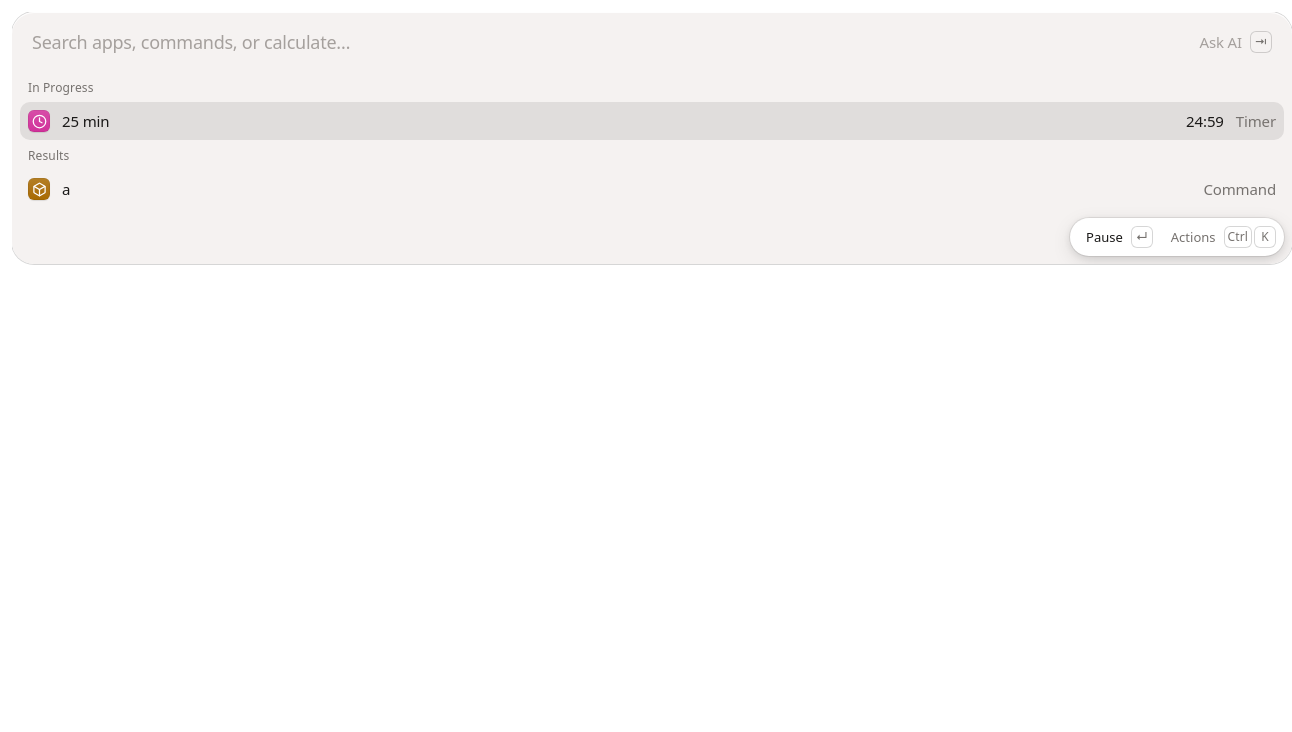
Test: the action panel is the selected row's, and runs what is chosen in it
Press k in the field with placeholder "Search apps, commands, or calculate…", box [12, 12, 1184, 72]
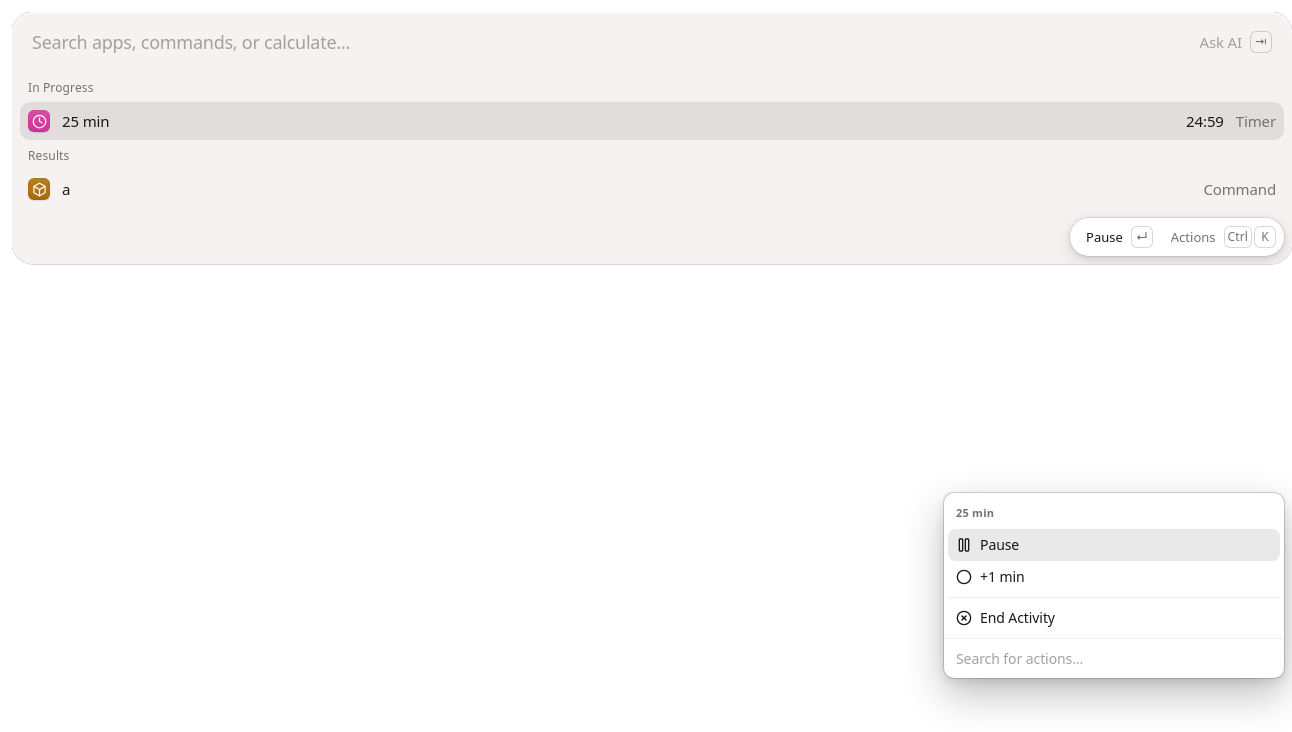
Expected: the text with class "action-panel-title" reads "25 min", [956, 505, 994, 520]
Click the element with class "action-row" showing "End Activity". click: point(1005, 618)
box: [956, 608, 1055, 627]
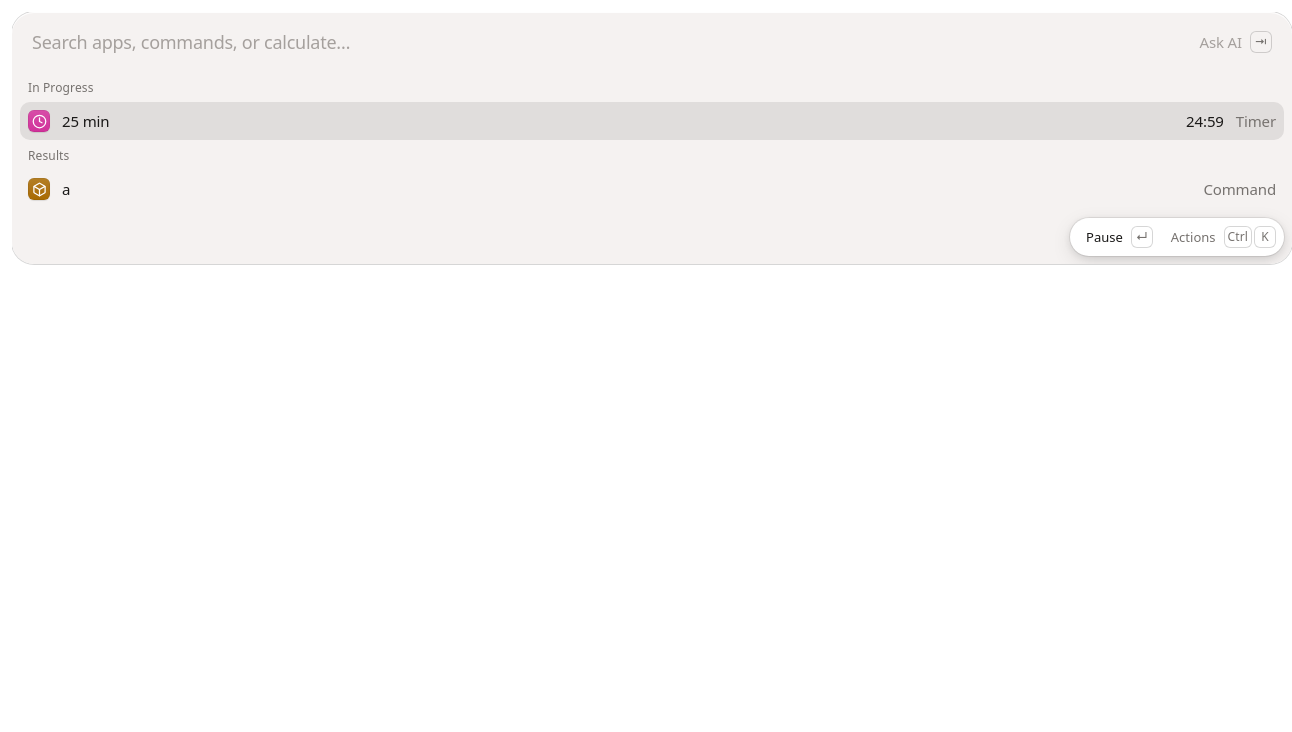
Expected: the element with class "action-panel" is gone
